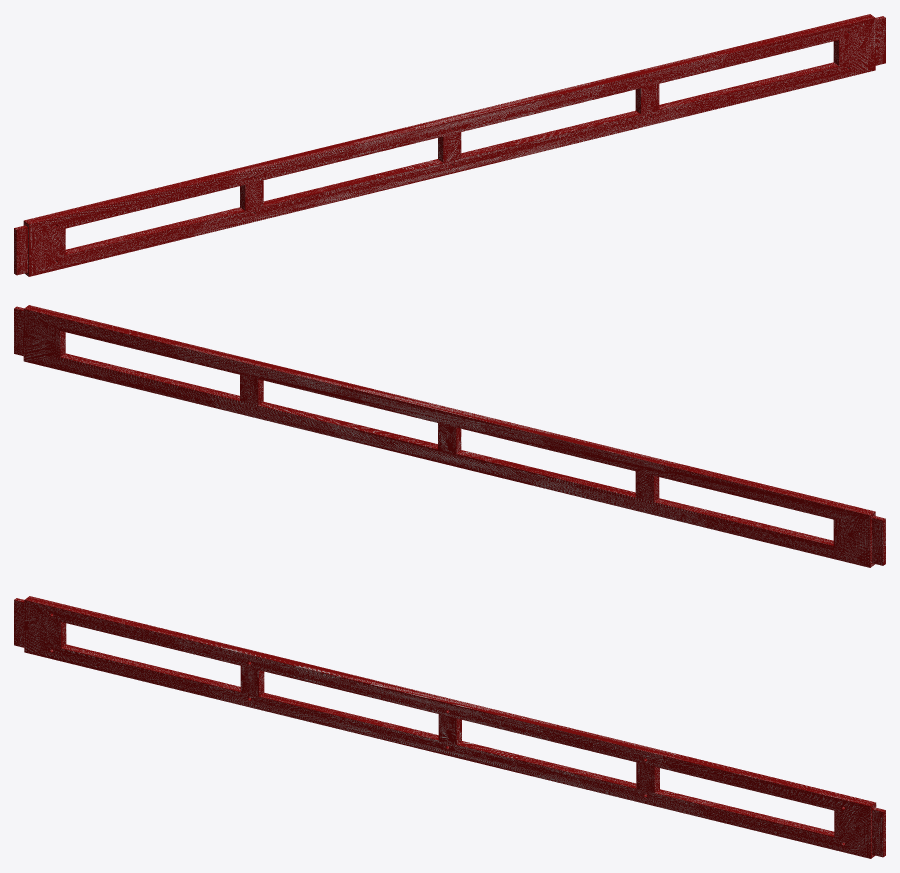
Rendered from original-44.obj.
3 renders of one model, top to bottom at view 1: azimuth 30°, elevation 25°; view 2: azimuth 150°, elevation 25°; view 3: azimuth 330°, elevation 25°, orthographic.
Parts seen in each view (by area): view 1: Component_3_2/Component_3/mesh19/mesh19-geometry#mesh19-geometry; view 2: Component_3_2/Component_3/mesh19/mesh19-geometry#mesh19-geometry; view 3: Component_3_2/Component_3/mesh19/mesh19-geometry#mesh19-geometry.
Boxes of the visible parts, left/top/right/bottom form: Component_3_2/Component_3/mesh19/mesh19-geometry#mesh19-geometry: left=14, top=14, right=885, bottom=276; Component_3_2/Component_3/mesh19/mesh19-geometry#mesh19-geometry: left=14, top=305, right=885, bottom=567; Component_3_2/Component_3/mesh19/mesh19-geometry#mesh19-geometry: left=14, top=596, right=885, bottom=858.
Size of the model in its own units: 1.67 by 0.0964 by 0.0175.
